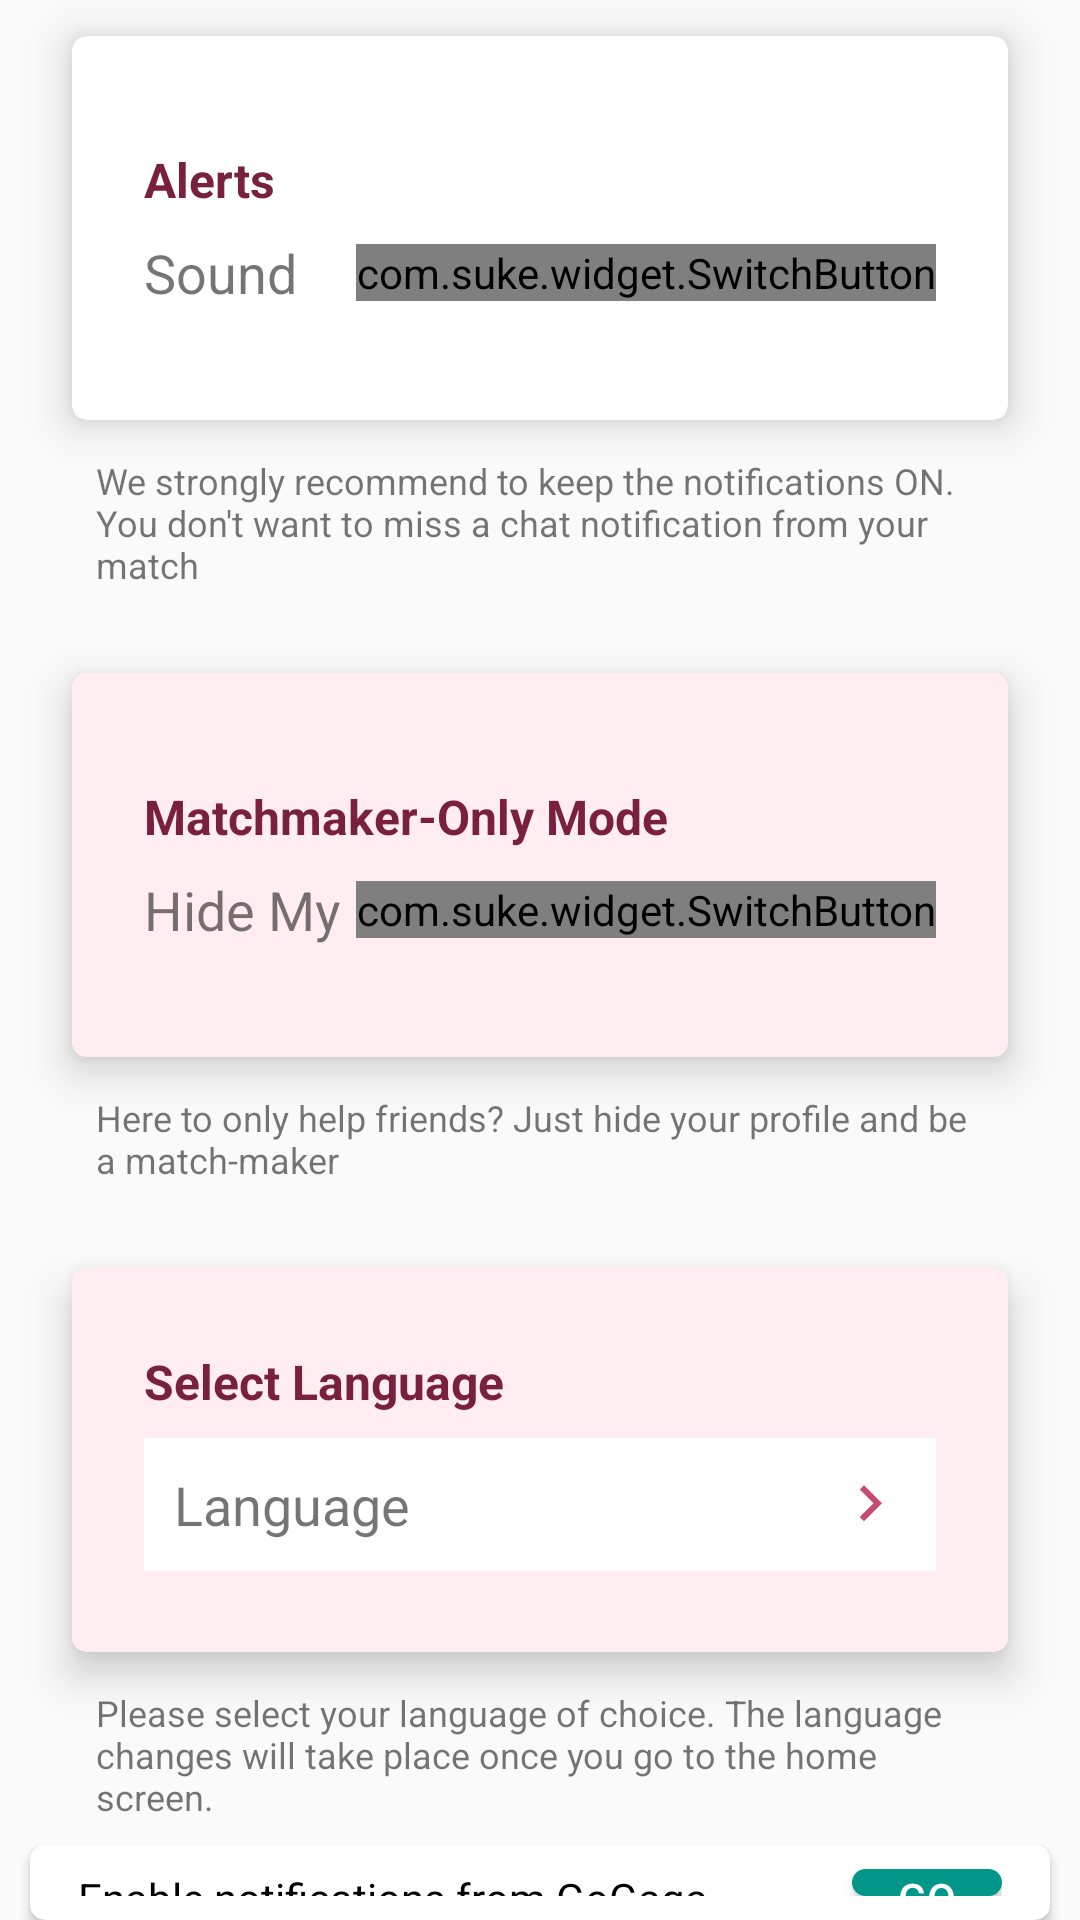

Where to tap for icons on this 1080x1920 app screen, as point (x, y):
keyboard arrow right: point (871, 1503)
